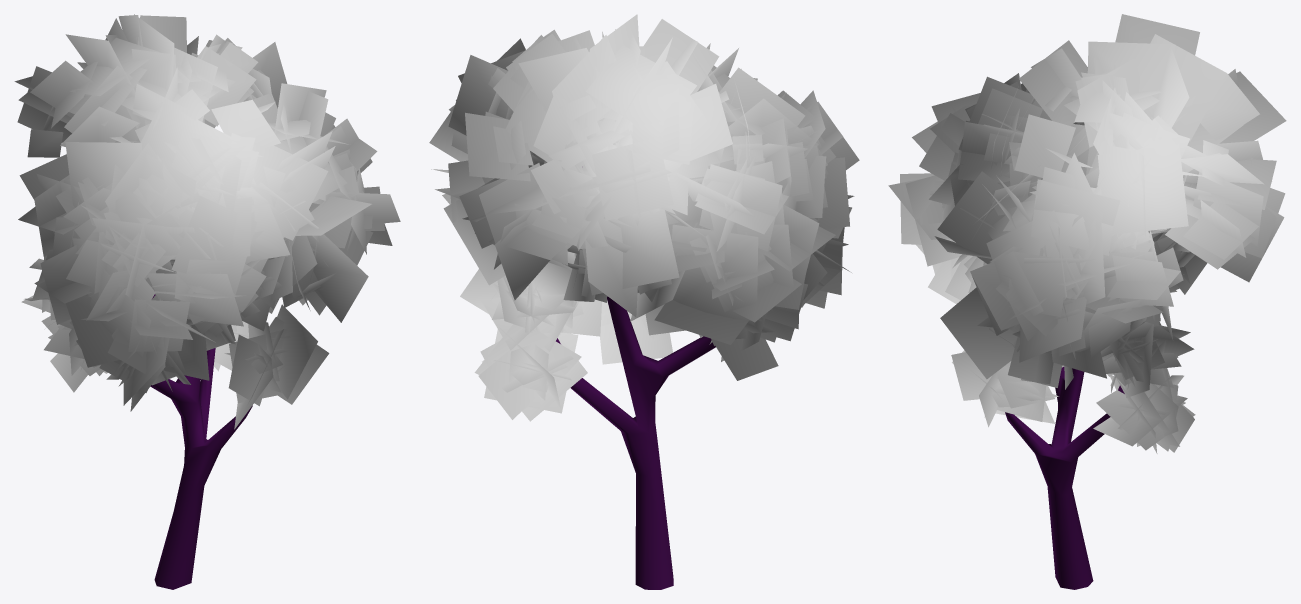
The model's file is m_TreeSmall2_LOD0.fbx.
The picture shows the model from 3 angles, left to right: view 1: azimuth 30°, elevation 25°; view 2: azimuth 150°, elevation 25°; view 3: azimuth 270°, elevation 25°; orthographic projection. The views are drawn at different scales.
Parts seen in each view (by area): view 1: TreeSmall2_LOD0; view 2: TreeSmall2_LOD0; view 3: TreeSmall2_LOD0.
Part boxes in pixels (bbox=[...]): TreeSmall2_LOD0: bbox=[14, 14, 400, 589]; TreeSmall2_LOD0: bbox=[429, 14, 859, 589]; TreeSmall2_LOD0: bbox=[888, 14, 1286, 589].
Bounding box in the file's own units: 749 × 1106 × 725.
